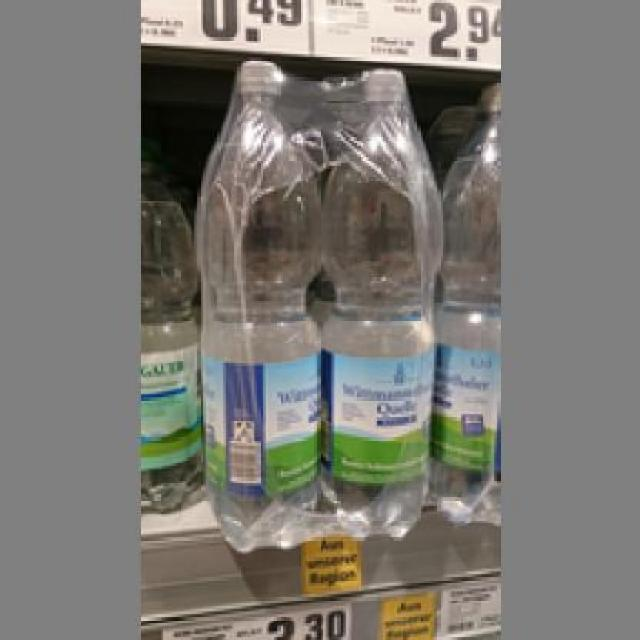Water: (188, 54, 324, 540), (320, 59, 437, 535), (432, 74, 494, 526)
